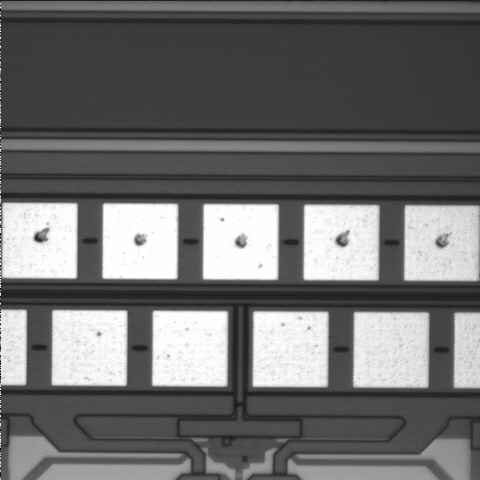pad: (102, 203, 178, 279), (203, 204, 279, 280), (152, 311, 228, 387), (2, 203, 77, 279), (52, 310, 127, 386), (253, 311, 328, 387), (353, 312, 429, 387), (304, 205, 379, 280)
